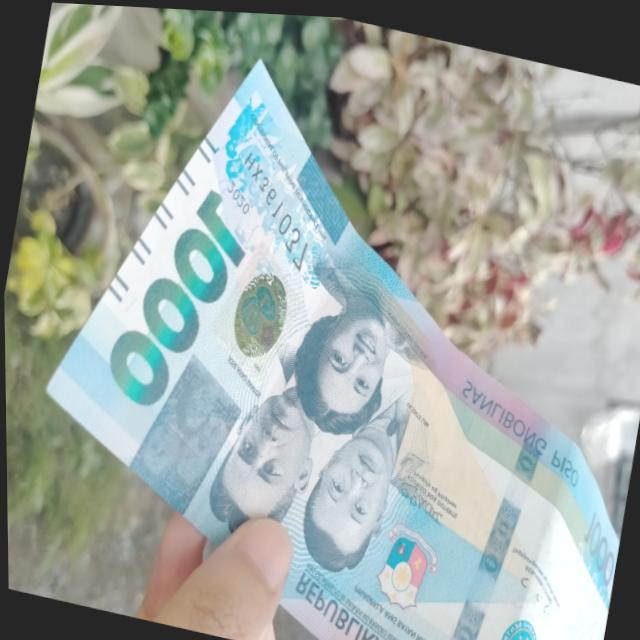concealed_value: (124, 349, 240, 515)
optically_variable_device: (199, 226, 315, 394)
serial_number: (441, 409, 549, 640), (221, 139, 333, 280)
